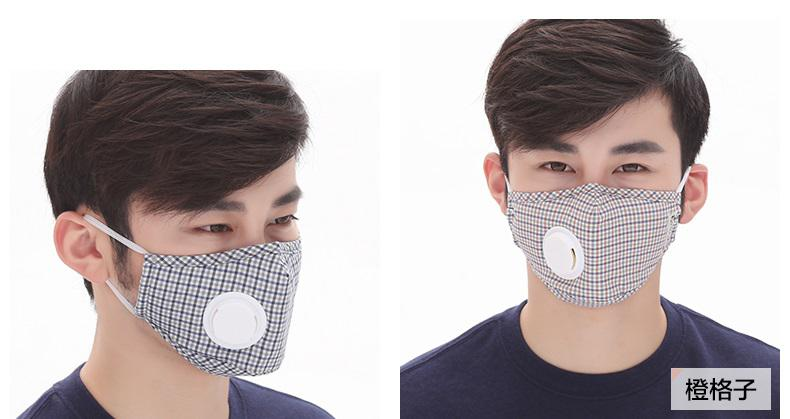OK: (121, 174, 315, 376), (510, 129, 676, 302)
